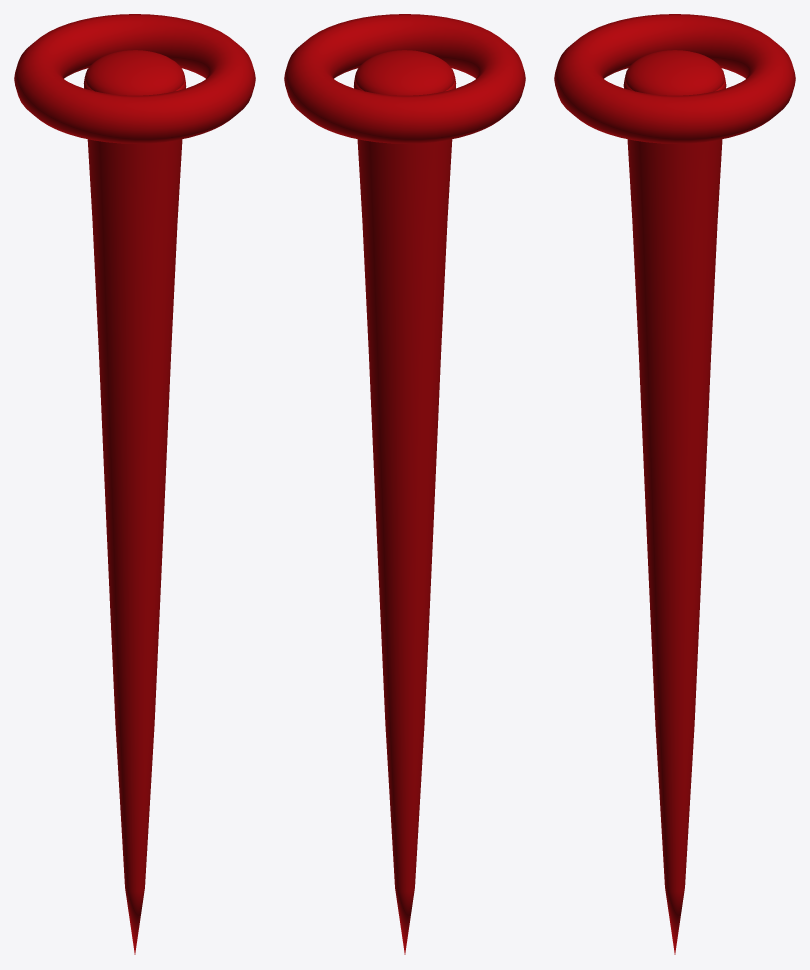
Rendered from Localizzatore.fbx.
The picture shows the model from 3 angles, left to right: view 1: azimuth 30°, elevation 25°; view 2: azimuth 150°, elevation 25°; view 3: azimuth 270°, elevation 25°; orthographic projection.
Parts seen in each view (by area): view 1: Localizzatore; view 2: Localizzatore; view 3: Localizzatore.
Boxes of the visible parts, <box> form: Localizzatore: <box>14,14,255,954</box>; Localizzatore: <box>284,14,525,954</box>; Localizzatore: <box>554,14,795,954</box>.
Bounding box in the file's own units: 99.88 × 410 × 99.88.
